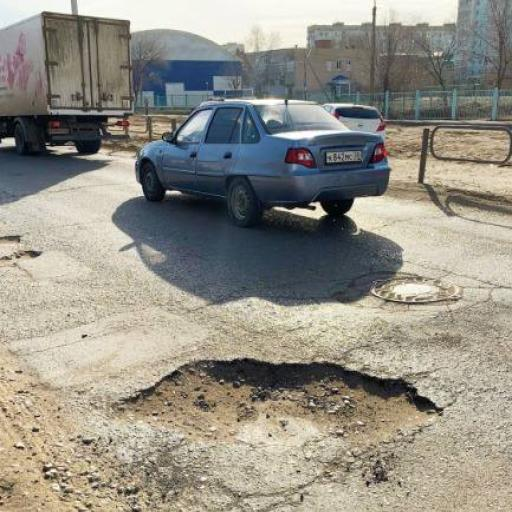bottle: (135, 99, 391, 227)
entrance: (120, 360, 439, 444)
ramp: (1, 144, 511, 511)
